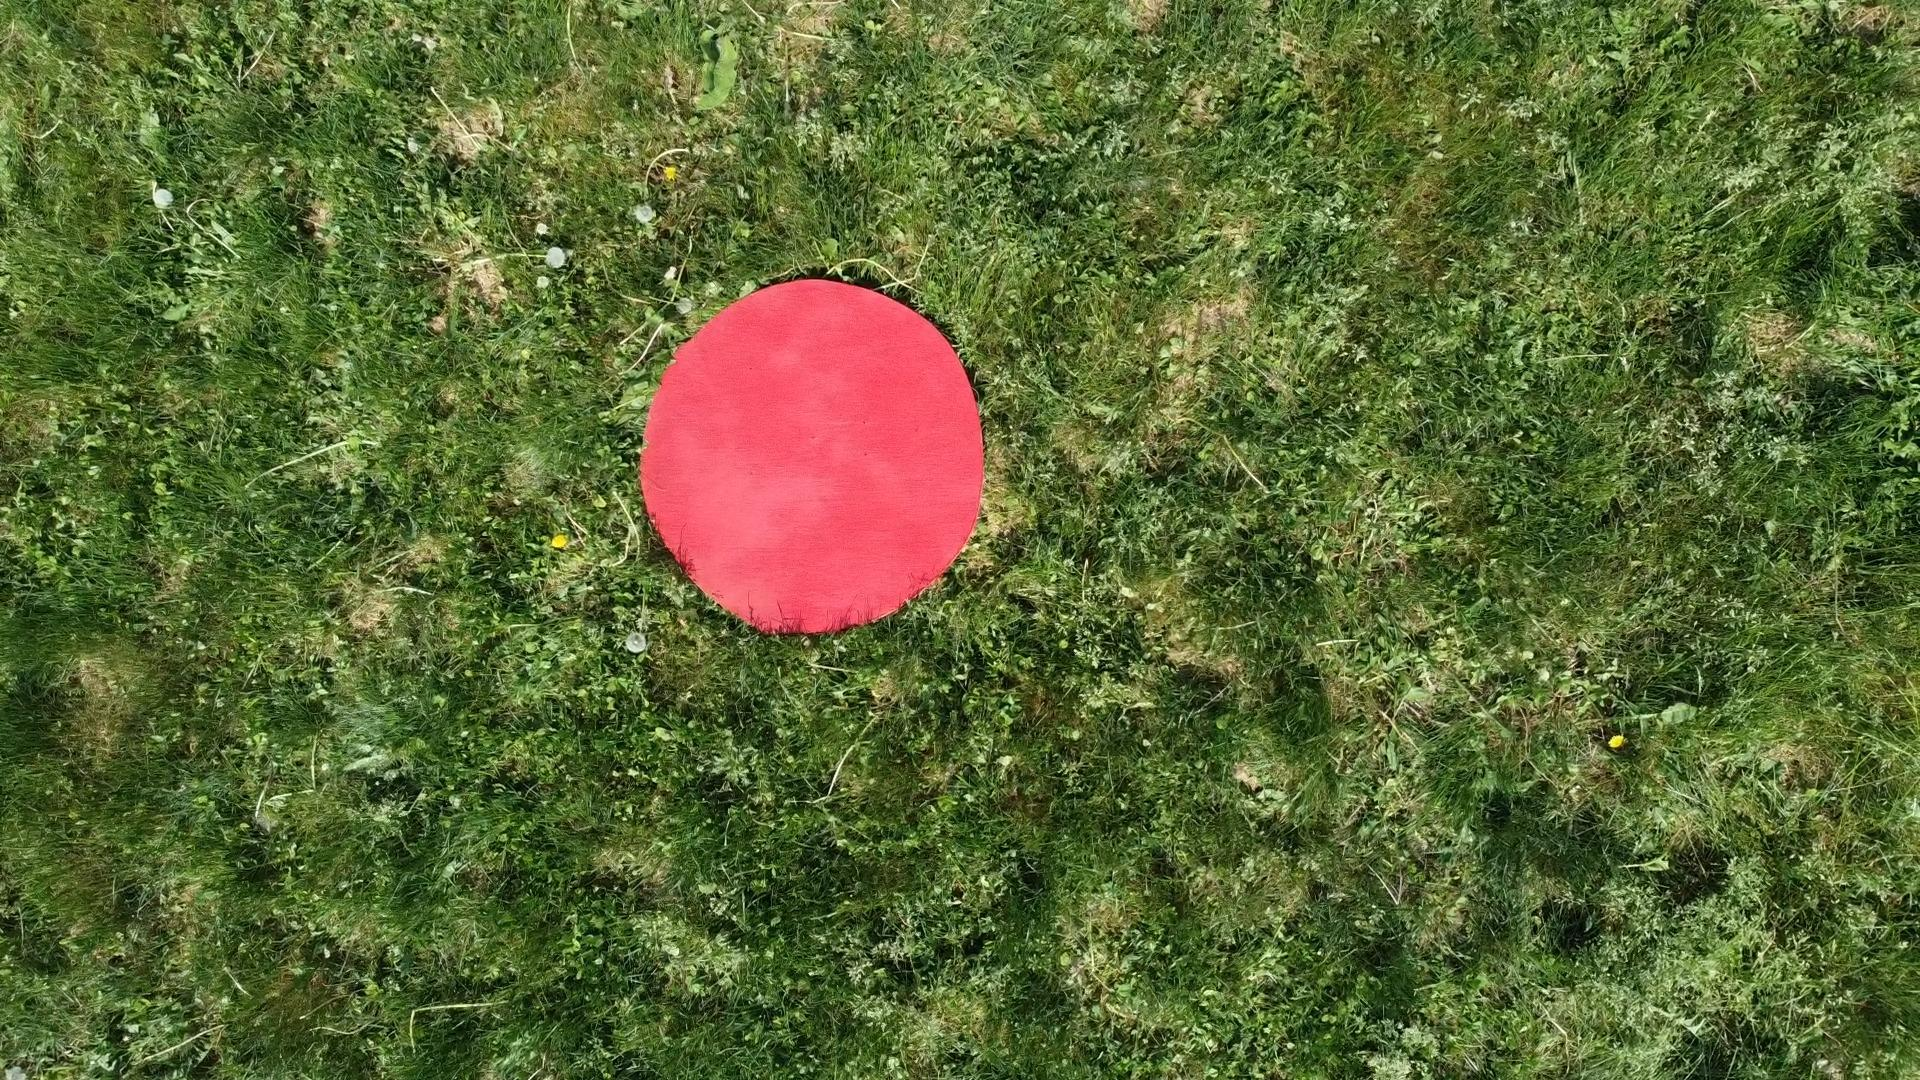Red: (633, 266, 993, 645)
